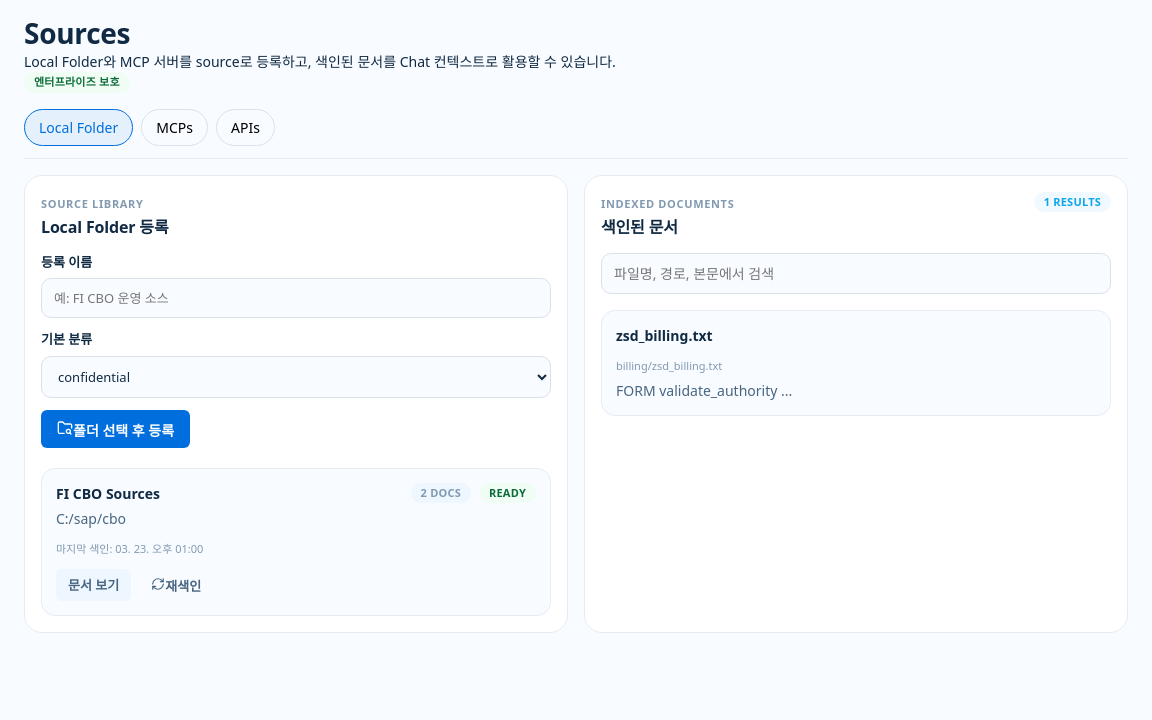
Scenario: SourcesPage › MCPs 탭으로 전환하면 MCP 서버 목록을 조회한다
Click the tab "MCPs": (175, 127) [141,108,208,146]
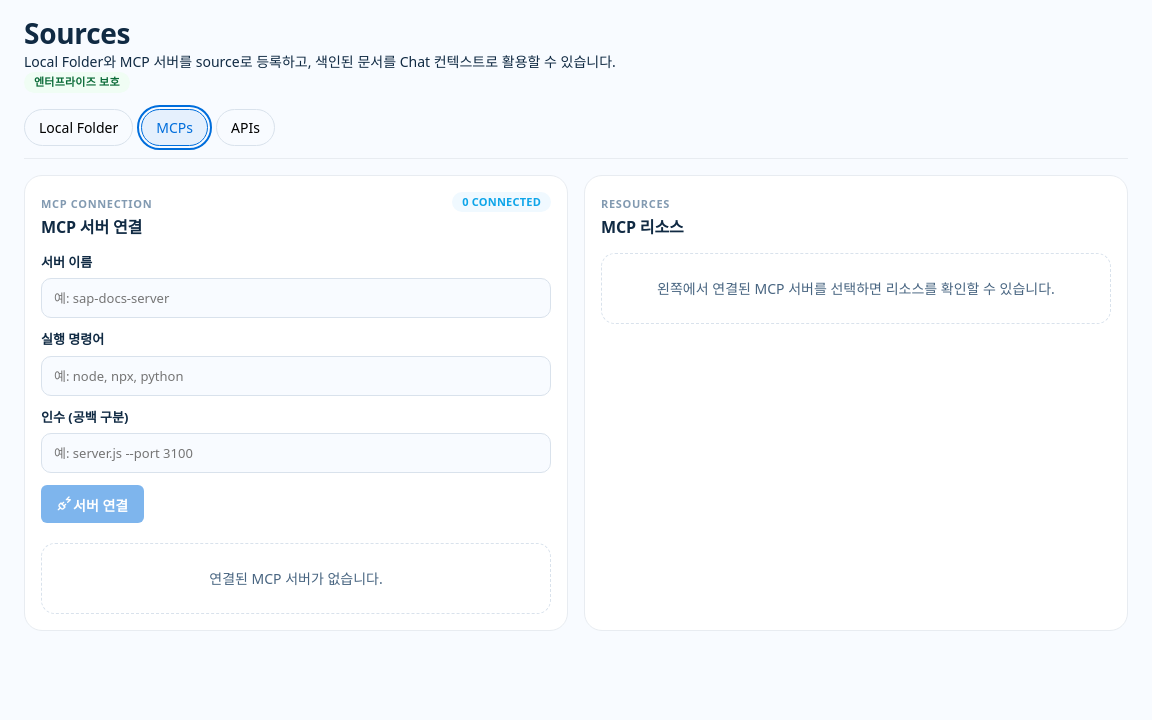
Check: the heading "MCP 서버 연결" is shown, box [41,216,152,236]
Check: the text "연결된 MCP 서버가 없습니다." is shown, box [41,543,551,614]
